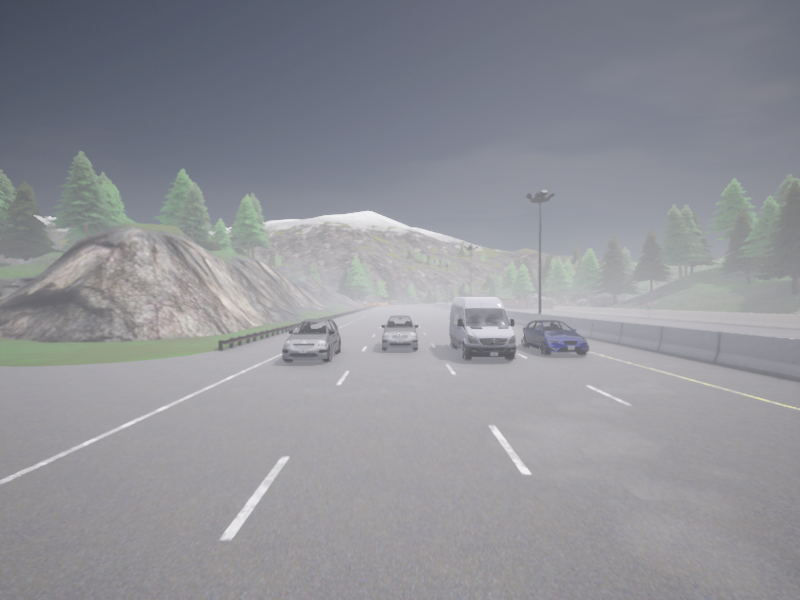vehicle: (449, 297, 515, 360), (282, 319, 341, 363), (522, 320, 588, 355), (381, 316, 418, 351)
